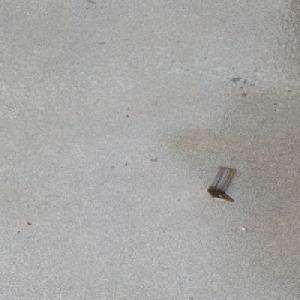MetalPart: (205, 166, 236, 202)
